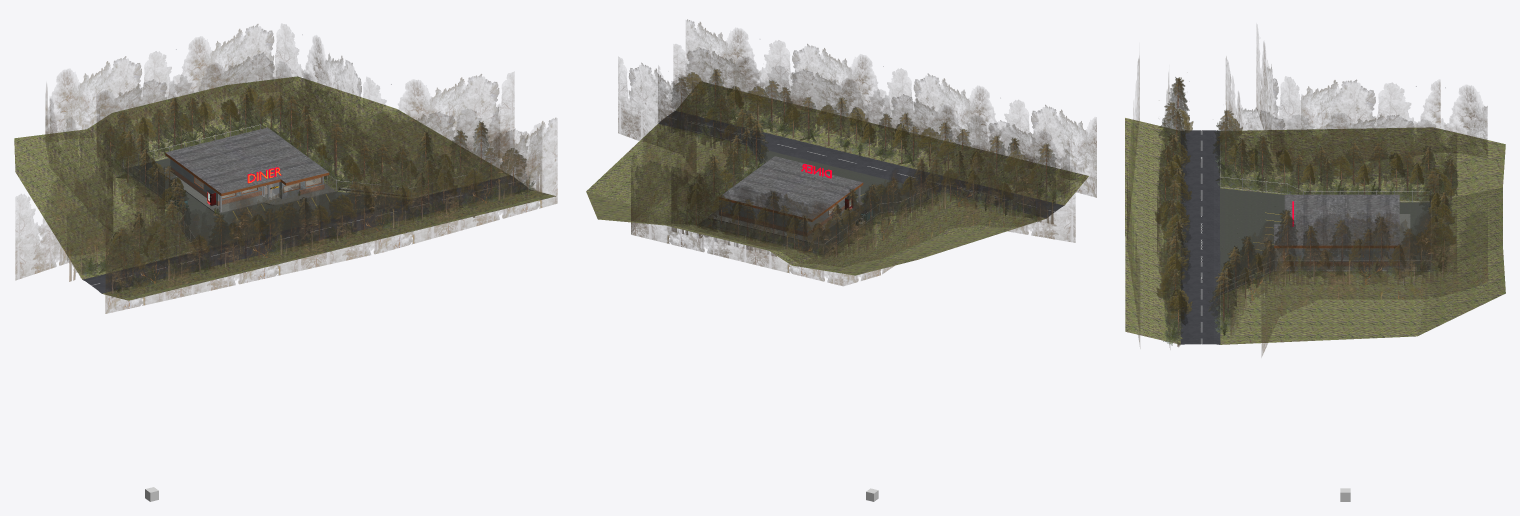
File: diner.glb
The picture shows the model from 3 angles, left to right: view 1: azimuth 30°, elevation 25°; view 2: azimuth 150°, elevation 25°; view 3: azimuth 270°, elevation 25°; orthographic projection. The views are drawn at different scales.
Visible parts, largest first — view 1: Background, Grass, Trees.001, DINER, Asphalt_02, Bush, Asphalt, Asphalt_01, Fences; view 2: Background, Grass, Trees.001, DINER, Bush, Asphalt_02, Asphalt, Asphalt_01; view 3: Grass, Background, Trees.001, DINER, Asphalt_02, Asphalt, Bush, Fences, Asphalt_01.
Boxes of the visible parts, x1,y1,x2,y2 form: Background: [15, 24, 557, 313]; Grass: [14, 76, 555, 300]; Trees.001: [101, 87, 527, 279]; DINER: [165, 127, 329, 206]; Asphalt_02: [82, 175, 527, 293]; Bush: [80, 112, 536, 292]; Asphalt: [124, 158, 409, 250]; Asphalt_01: [158, 167, 335, 213]; Fences: [122, 124, 473, 266]; Background: [618, 19, 1096, 285]; Grass: [586, 82, 1088, 275]; Trees.001: [671, 69, 1056, 252]; DINER: [707, 156, 863, 236]; Bush: [671, 99, 1063, 256]; Asphalt_02: [658, 111, 1063, 218]; Asphalt: [699, 146, 941, 254]; Asphalt_01: [709, 200, 864, 242]; Grass: [1125, 118, 1505, 344]; Background: [1127, 28, 1487, 356]; Trees.001: [1155, 77, 1458, 347]; DINER: [1274, 194, 1416, 270]; Asphalt_02: [1180, 130, 1220, 344]; Asphalt: [1220, 188, 1430, 294]; Bush: [1162, 121, 1450, 345]; Fences: [1219, 145, 1431, 325]; Asphalt_01: [1274, 214, 1410, 271].
Size of what is drawn, in the model's own units: 115 by 84.34 by 73.54.
94 materials, 87 textured.
